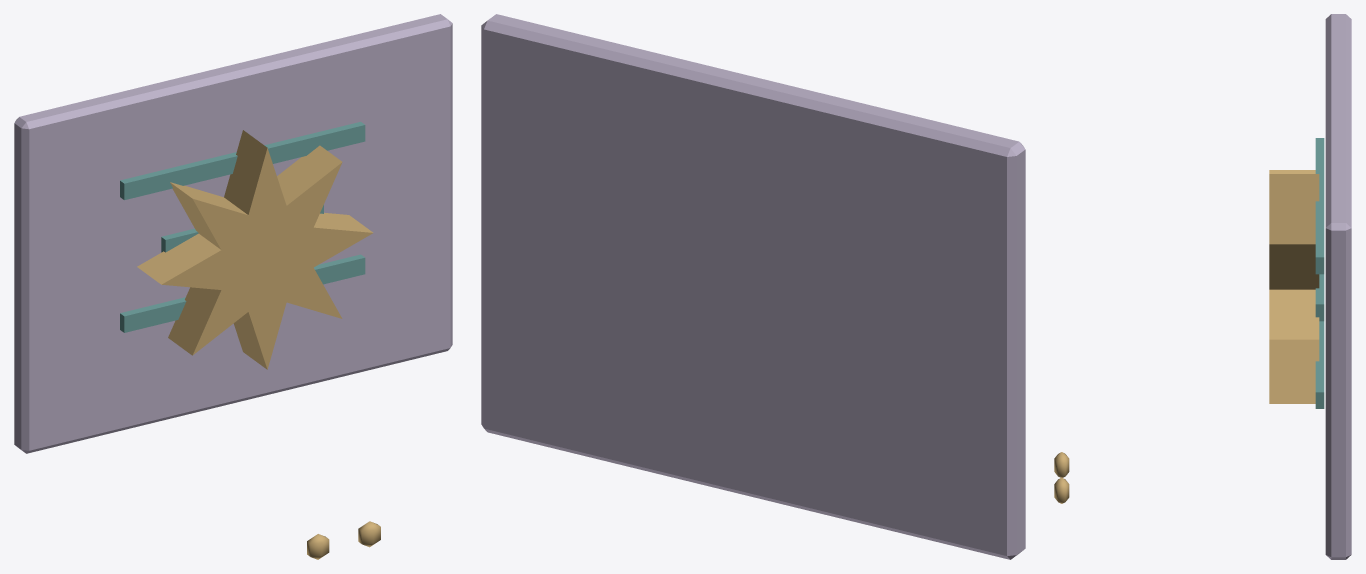
3 renders of one model, left to right at view 1: azimuth 30°, elevation 25°; view 2: azimuth 150°, elevation 25°; view 3: azimuth 270°, elevation 25°, orthographic. The views are drawn at different scales.
Parts seen in each view (by area): view 1: g_s79; view 2: g_s79; view 3: g_s79.
Boxes of the visible parts, <box> form: g_s79: <box>14,14,452,559</box>; g_s79: <box>481,14,1025,559</box>; g_s79: <box>1054,14,1351,559</box>.
Bounding box in the file's own units: 0.2924 × 0.246 × 0.1719.
